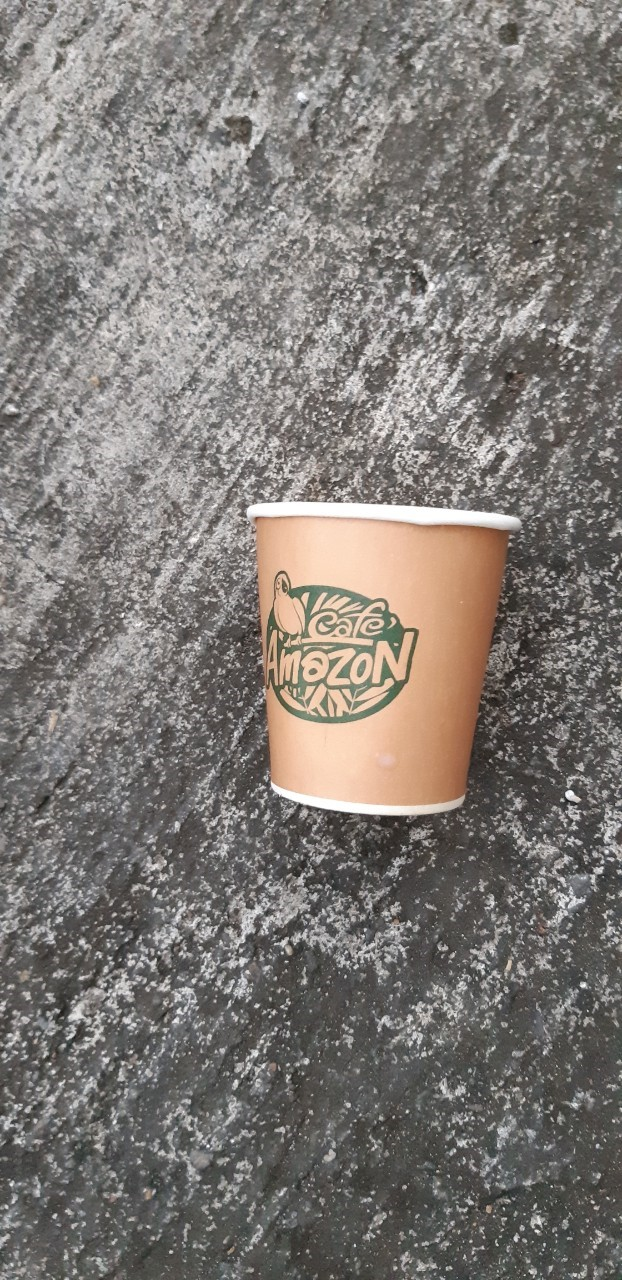PaperCup: (251, 496, 530, 817)
